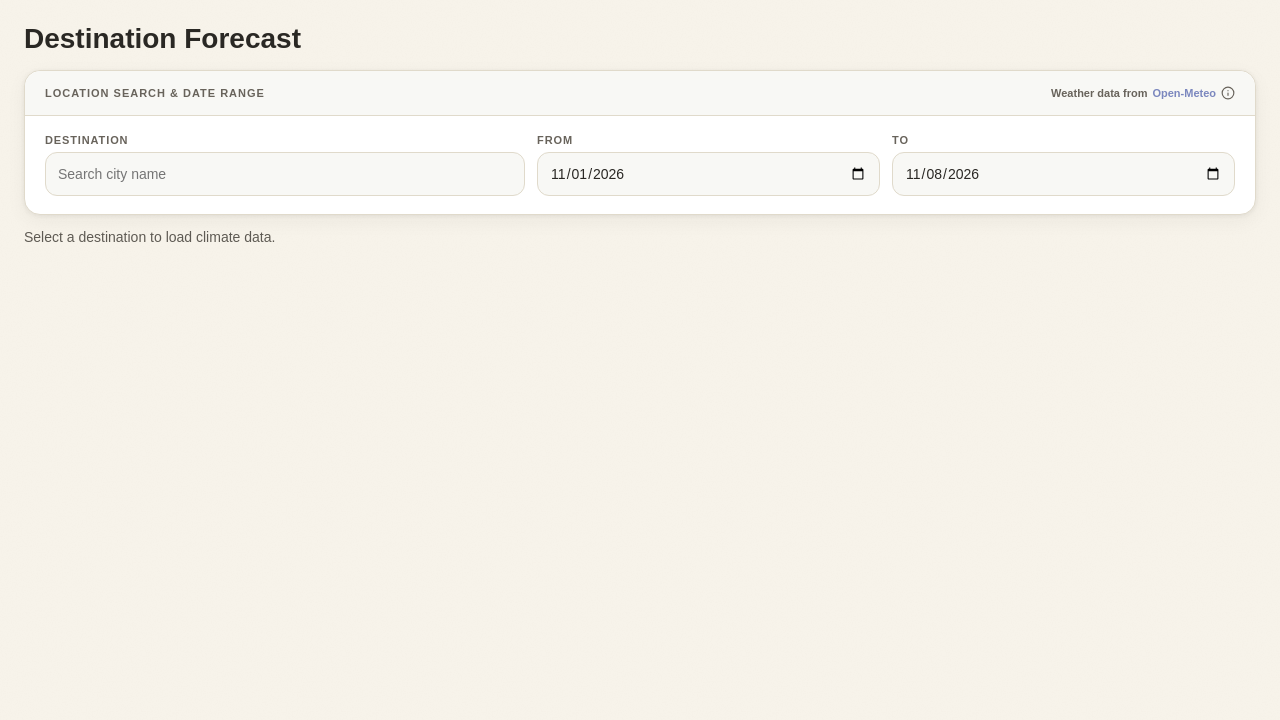
it: ForecastTool › FE-FOR-003 pressing ArrowDown then Enter selects the focused suggestion
The width and height of the screenshot is (1280, 720).
Type "Bar" into the dropdown named "Search destination" at {"x": 285, "y": 174}, box [45, 152, 525, 196]
Wait 500 ms
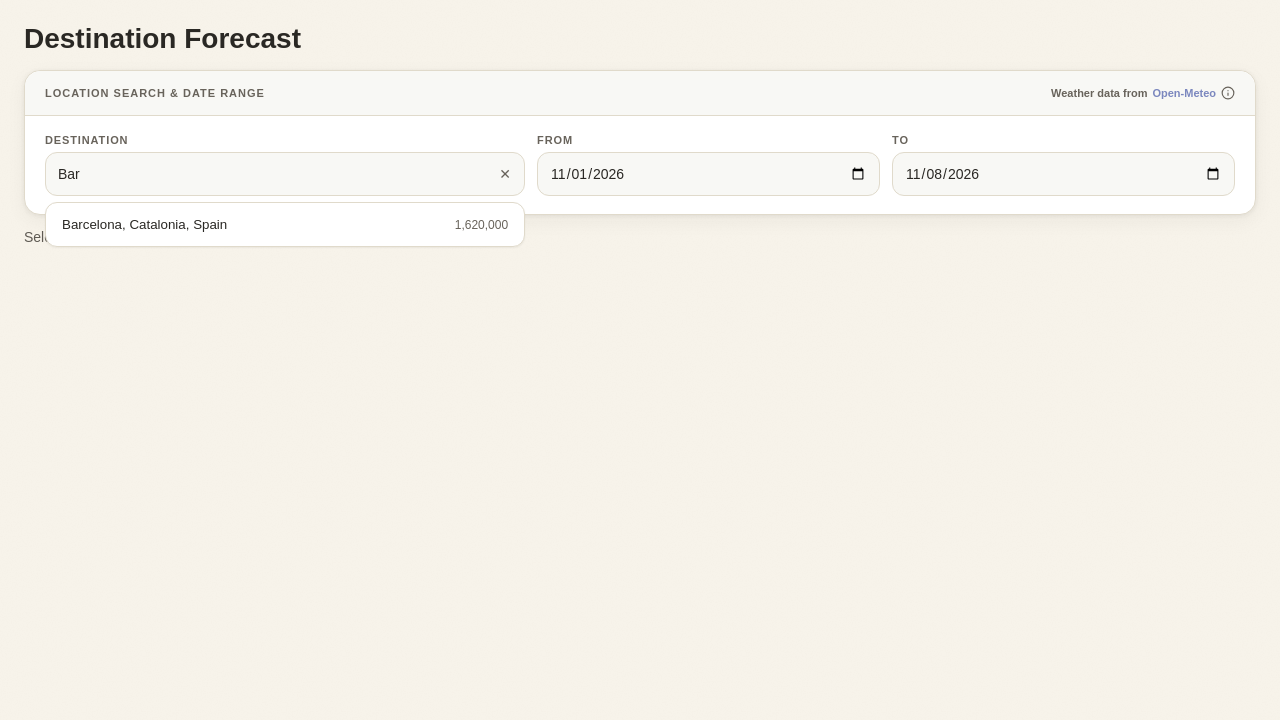
Press ArrowDown in the dropdown named "Search destination", box [45, 152, 525, 196]
Press Enter in the dropdown named "Search destination", box [45, 152, 525, 196]
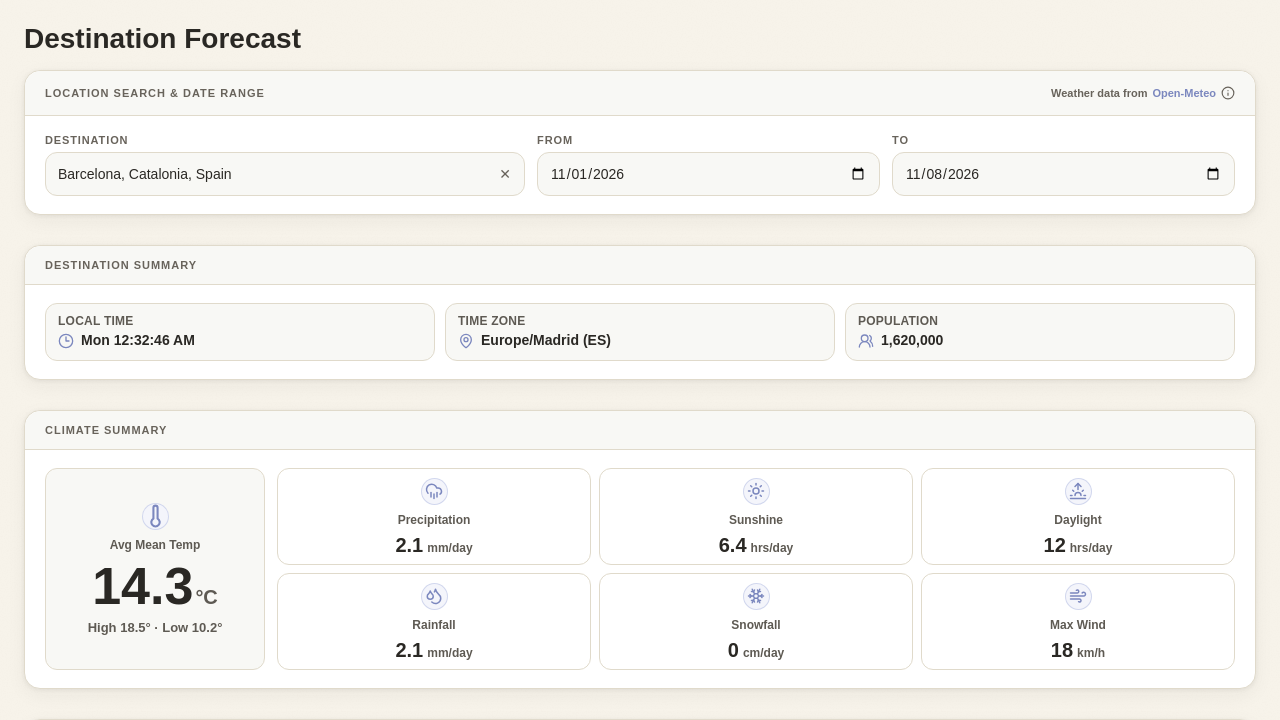
Now the dropdown named "Search destination" holds "Barcelona, Catalonia, Spain", box [45, 152, 525, 196]
